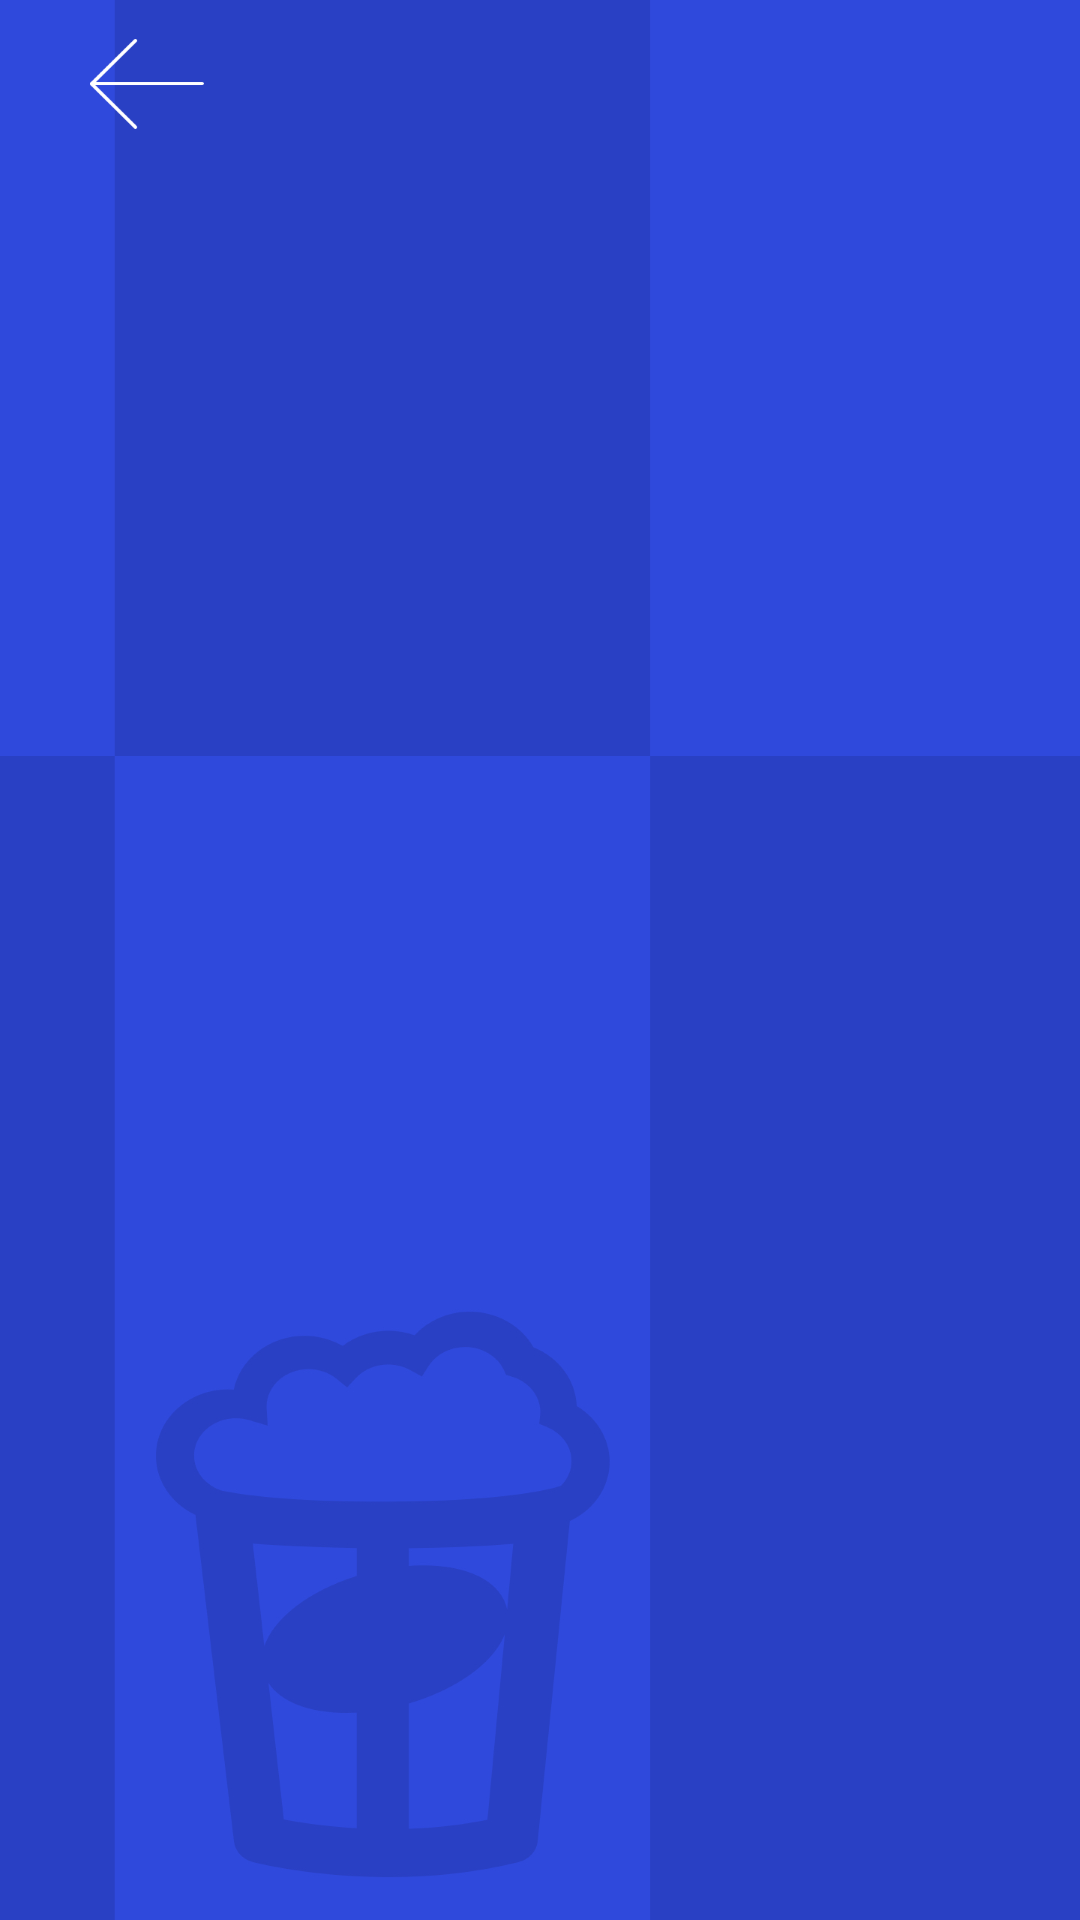

Named icons in this screenshot (1080px x 1920px) and their bounding boxes, (x1, y1, x2, y2):
back: (90, 39, 204, 129)
